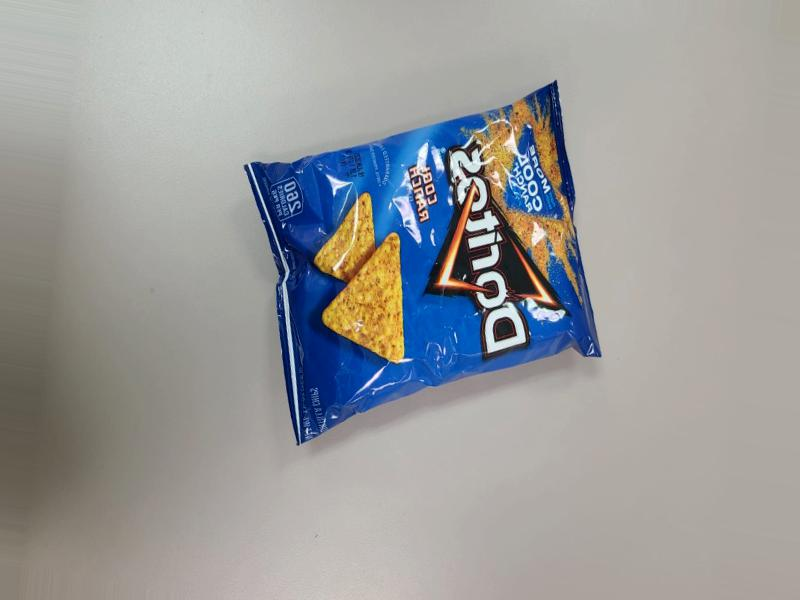doritos: (259, 62, 610, 462)
